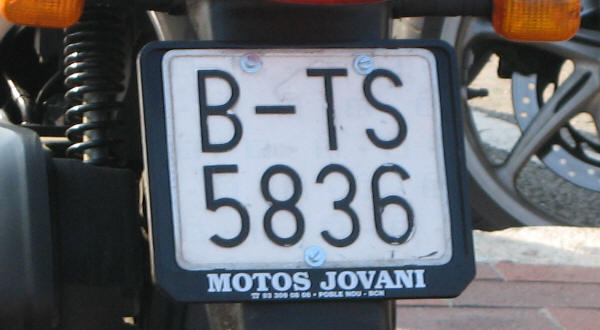license_plate: (160, 46, 453, 268)
